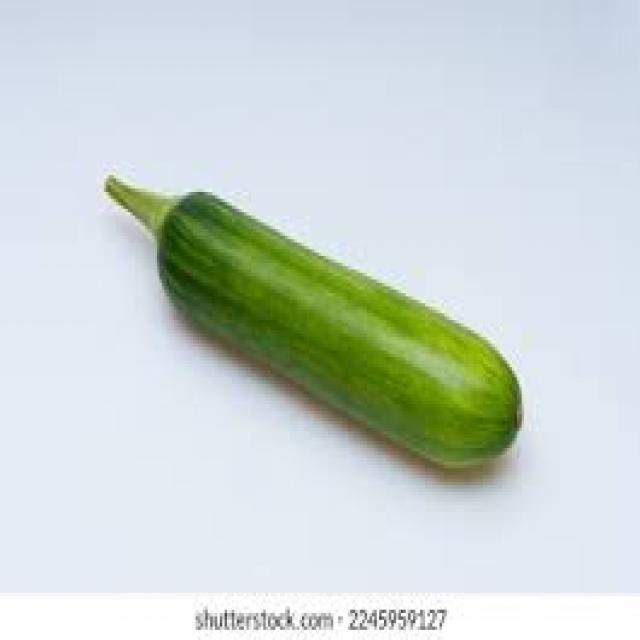yogurt: (100, 138, 531, 483)
